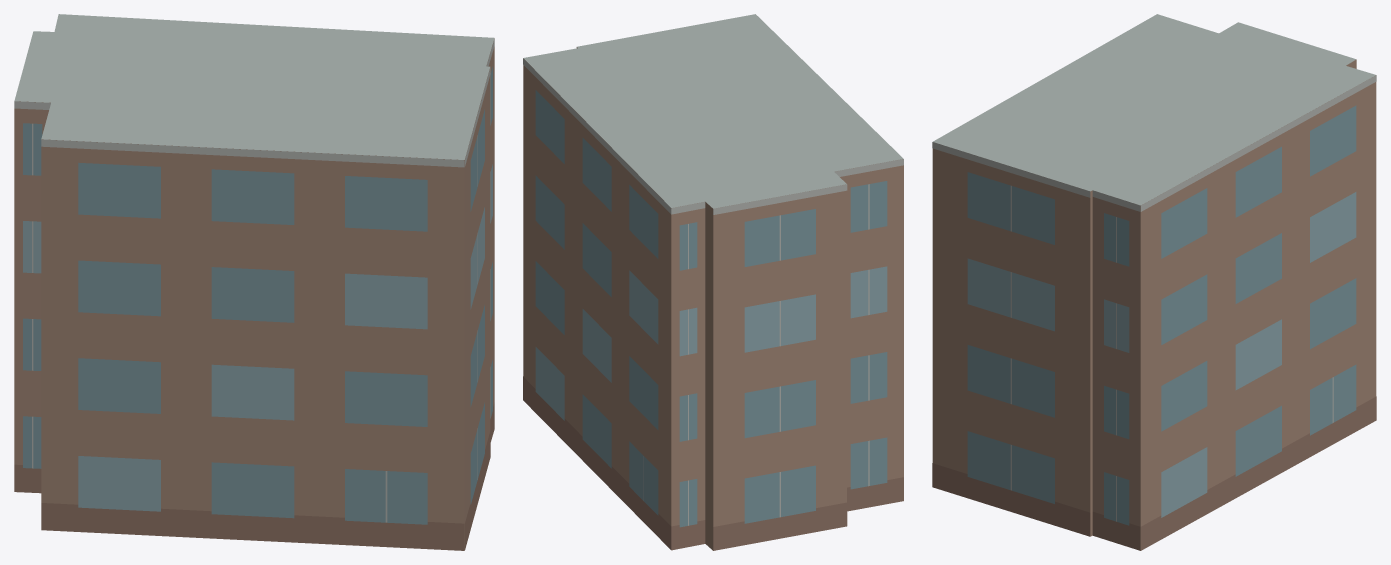
Rendered from survey-upis-32678297.glb.
3 views of the same model, side by side, from view 1: azimuth 30°, elevation 25°; view 2: azimuth 150°, elevation 25°; view 3: azimuth 270°, elevation 25° (orthographic). The views are drawn at different scales.
Parts seen in each view (by area): view 1: survey-upis-32678297.tmp; view 2: survey-upis-32678297.tmp; view 3: survey-upis-32678297.tmp.
Part boxes in pixels (x1,y1,x2,y2): survey-upis-32678297.tmp: [14, 14, 494, 550]; survey-upis-32678297.tmp: [523, 14, 903, 550]; survey-upis-32678297.tmp: [932, 14, 1376, 550].
Size of the model in its own units: 15.35 by 12.9 by 15.04.
